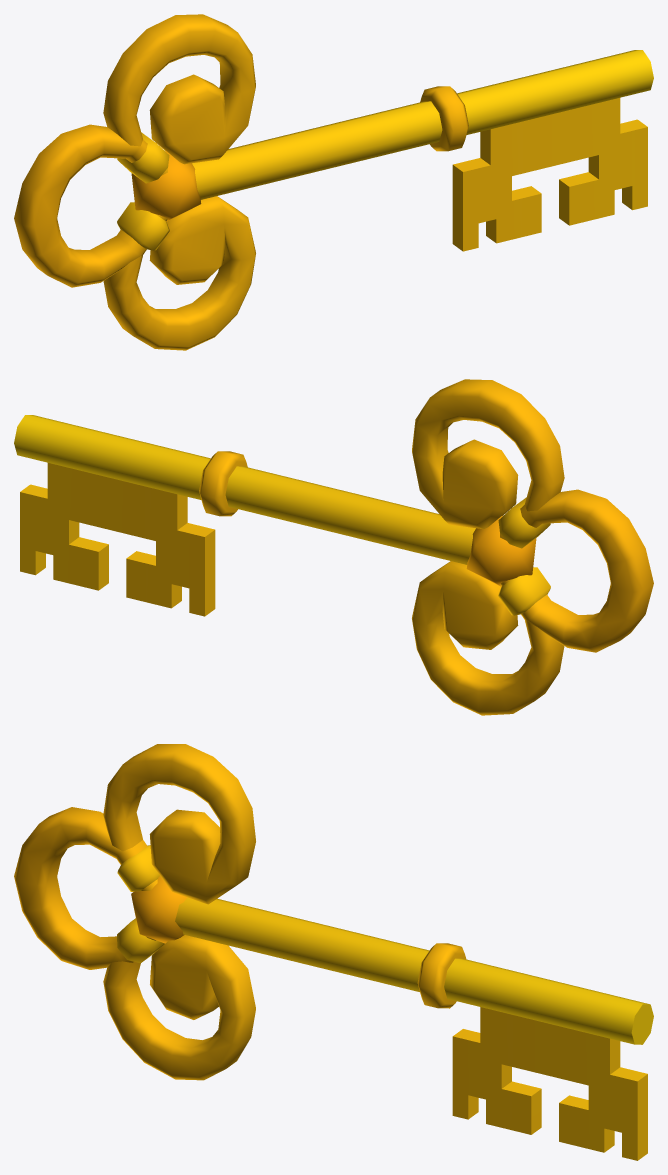
The model's file is key_002.glb.
3 renders of one model, top to bottom at view 1: azimuth 30°, elevation 25°; view 2: azimuth 150°, elevation 25°; view 3: azimuth 330°, elevation 25°, orthographic.
Visible parts, largest first — view 1: key_002; view 2: key_002; view 3: key_002.
Boxes of the visible parts, x1,y1,x2,y2 form: key_002: (14,14,653,350); key_002: (14,379,653,715); key_002: (14,744,653,1160).
Bounding box in the file's own units: 1.69 × 0.8508 × 0.161.
1 material, 1 textured.
